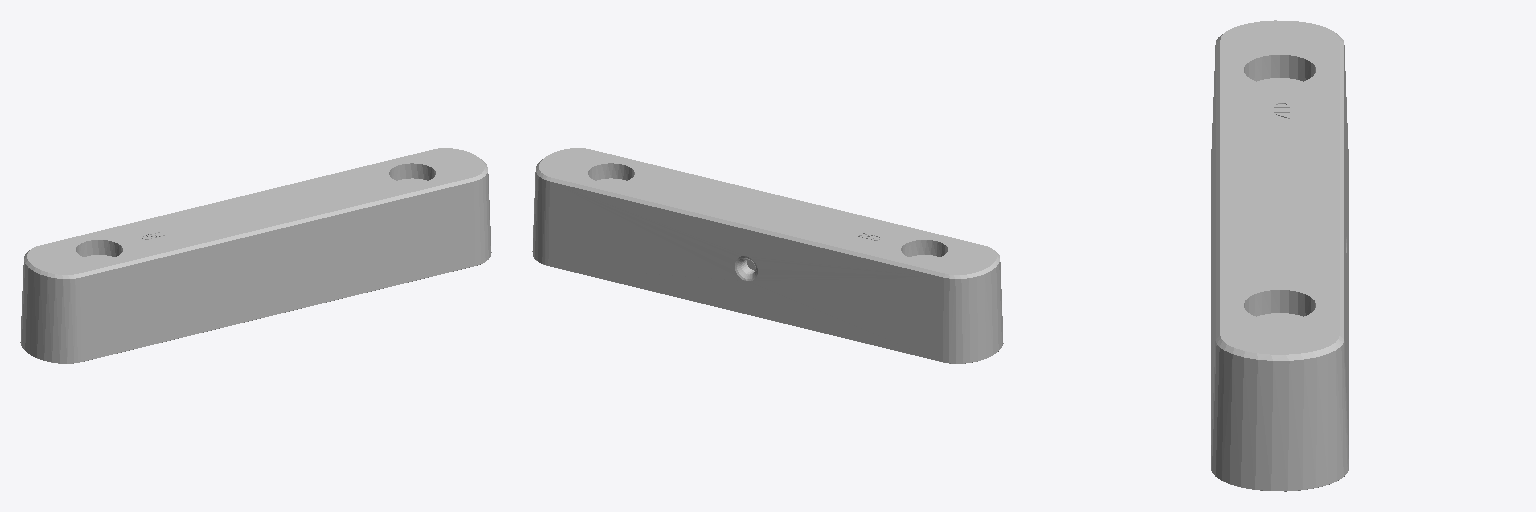
robot.urdf — zed_camera:
<?xml version="1.0"?>
<!--
Copyright (c) 2017, STEREOLABS.

All rights reserved.

THIS SOFTWARE IS PROVIDED BY THE COPYRIGHT [author]
"AS IS" AND ANY EXPRESS OR IMPLIED WARRANTIES, INCLUDING, BUT NOT
LIMITED TO, THE IMPLIED WARRANTIES OF MERCHANTABILITY AND FITNESS FOR
A PARTICULAR PURPOSE ARE DISCLAIMED. IN NO EVENT SHALL THE COPYRIGHT
OWNER OR CONTRIBUTORS BE LIABLE FOR ANY DIRECT, INDIRECT, INCIDENTAL,
SPECIAL, EXEMPLARY, OR CONSEQUENTIAL DAMAGES (INCLUDING, BUT NOT
LIMITED TO, PROCUREMENT OF SUBSTITUTE GOODS OR SERVICES; LOSS OF USE,
DATA, OR PROFITS; OR BUSINESS INTERRUPTION) HOWEVER CAUSED AND ON ANY
THEORY OF LIABILITY, WHETHER IN CONTRACT, STRICT LIABILITY, OR TORT
(INCLUDING NEGLIGENCE OR OTHERWISE) ARISING IN ANY WAY OUT OF THE USE
OF THIS SOFTWARE, EVEN IF ADVISED OF THE POSSIBILITY OF SUCH DAMAGE.
-->
<robot name="zed_camera">

    <link name="left_optical">
        <visual>
            <origin xyz="0 0 0" rpy="0 1.57 0"/>
            <geometry>
                <cylinder radius="0.007" length=".031"/>
            </geometry>
            <material name="dark_grey">
                <color rgba="0.1 0.1 0.1 1"/>
            </material>
        </visual>
    </link>
    <link name="zed_camera">
        <visual>
            <origin xyz="0 0 0" rpy="0 0 0"/>
            <geometry>
                <mesh filename="package://zed_wrapper/urdf/ZED.stl" />
            </geometry>
            <material name="light_grey">
                <color rgba="0.8 0.8 0.8 0.8"/>
            </material>
        </visual>
    </link>
    <link name="right_optical">
        <visual>
            <origin xyz="0 0 0" rpy="0 1.57 0"/>
            <geometry>
                <cylinder radius="0.007" length=".031"/>
            </geometry>
            <material name="dark_grey">
                <color rgba="0.1 0.1 0.1 1"/>
            </material>
        </visual>
    </link>
    
    <joint name="left_optical_joint" type="fixed">
        <parent link="zed_camera"/>
        <child link="left_optical"/>
        <origin xyz="0 0.00 0" rpy="0 0 0" />
    </joint>
    <joint name="right_optical_joint" type="fixed">
        <parent link="zed_camera"/>
        <child link="right_optical"/>
        <origin xyz="0.12 0 0" rpy="0 0 0" />
    </joint>

</robot>

--- Facts derived from the render (not from the file) ---
3 views of the same robot in one strip: view 1: azimuth 30°, elevation 25°; view 2: azimuth 150°, elevation 25°; view 3: azimuth 270°, elevation 25° (orthographic).
Model zed_camera with 3 links and 2 joints (2 fixed), rooted at zed_camera, posed all joints at 0.
Links seen in each view (by area): view 1: zed_camera; view 2: zed_camera; view 3: zed_camera.
Link boxes in pixels (box(x1,y1,x2,y2)): zed_camera: box(20, 148, 491, 363); zed_camera: box(532, 148, 1003, 363); zed_camera: box(1211, 20, 1348, 491).
Bounding box of the posed robot: 0.175 × 0.03 × 0.0318 m (x, y, z).
1 mesh visuals loaded from 1 distinct referenced files (1 binary STL).